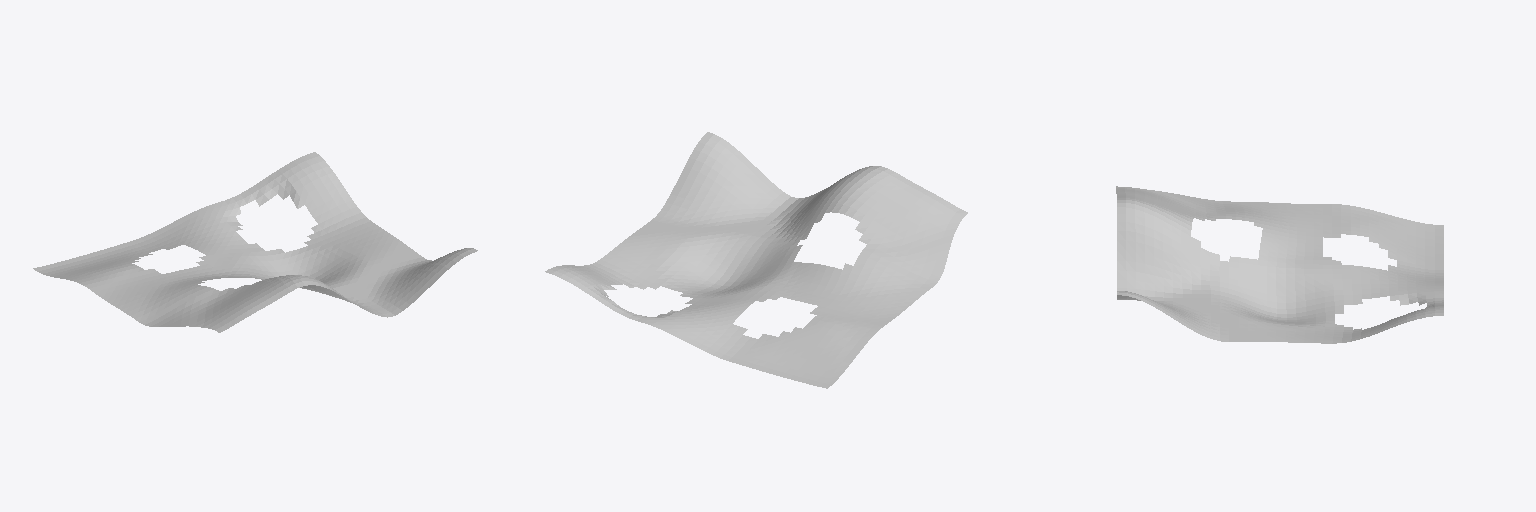
Rendered from land_PURGED.obj.
3 views of the same model, side by side, from view 1: azimuth 30°, elevation 25°; view 2: azimuth 150°, elevation 25°; view 3: azimuth 270°, elevation 25° (orthographic).
Visible parts, largest first — view 1: Plane; view 2: Plane; view 3: Plane.
Part boxes in pixels (x1,y1,x2,y2): Plane: (33, 152, 477, 332); Plane: (545, 132, 967, 388); Plane: (1116, 186, 1443, 343).
Bounding box in the file's own units: 2 × 0.517 × 2.01.